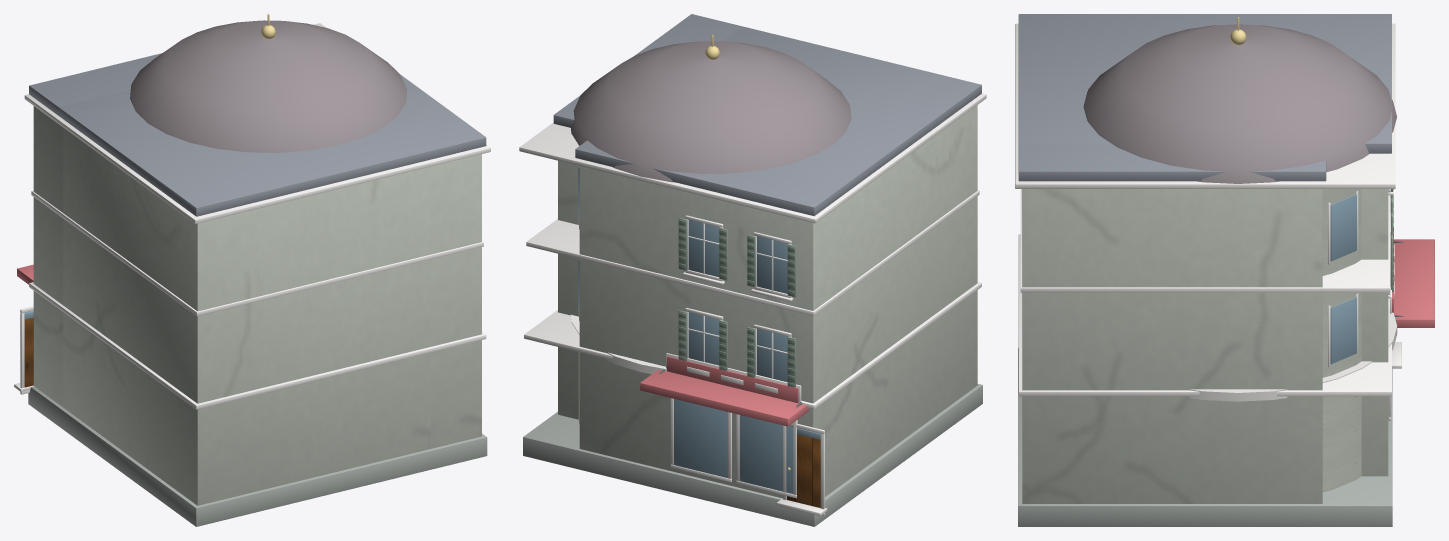
File: th37_eckhaus.glb
3 renders of one model, left to right at view 1: azimuth 30°, elevation 25°; view 2: azimuth 150°, elevation 25°; view 3: azimuth 270°, elevation 25°, orthographic. The views are drawn at different scales.
Parts seen in each view (by area): view 1: Cube, Cube.001, Turmdach, Cube.070, Cube.071, Cube.002, Cube.005, Cube.003, Cube.004, Cube.019; view 2: Cube, Turmdach, Cube.001, Cube.071, Cube.070, Cube.002, Cube.005, Cube.016, Cube.004, Cube.011, Cube.006, Cube.003 (+7 smaller); view 3: Cube.001, Turmdach, Cube.070, Cube.071, Cube.002, Rundecke, Cube, Cube.005, Cube.004, Cube.003, Cube.016, Eckgesims (+2 smaller).
Boxes of the visible parts, box(x1,y1,x2,y2) form: Cube: box(33, 106, 430, 505); Cube.001: box(63, 128, 481, 505); Turmdach: box(130, 20, 406, 152); Cube.070: box(29, 53, 434, 216); Cube.071: box(58, 75, 486, 216); Cube.002: box(28, 386, 487, 526); Cube.005: box(24, 23, 490, 223); Cube.003: box(29, 282, 486, 409); Cube.004: box(31, 190, 483, 316); Cube.019: box(24, 318, 33, 387); Cube: box(579, 117, 977, 498); Turmdach: box(571, 41, 851, 182); Cube.001: box(558, 105, 977, 438); Cube.071: box(553, 14, 981, 193); Cube.070: box(575, 26, 981, 216); Cube.002: box(523, 384, 982, 526); Cube.005: box(519, 93, 986, 223); Cube.016: box(640, 370, 808, 426); Cube.004: box(526, 190, 979, 315); Cube.011: box(674, 399, 727, 477); Cube.006: box(739, 415, 793, 494); Cube.003: box(524, 282, 981, 409); Cube.001: box(1022, 189, 1322, 503); Turmdach: box(1083, 24, 1396, 183); Cube.070: box(1019, 14, 1391, 153); Cube.071: box(1018, 14, 1326, 181); Cube.002: box(1018, 348, 1392, 526); Rundecke: box(1322, 189, 1361, 492); Cube: box(1361, 189, 1388, 476); Cube.005: box(1015, 23, 1395, 188); Cube.004: box(1020, 189, 1390, 292); Cube.003: box(1018, 234, 1391, 396); Cube.016: box(1394, 239, 1434, 327); Eckgesims: box(1189, 305, 1397, 401).
Size of the model in its own units: 10.71 by 13.4 by 11.47.
14 materials, 2 textured.
